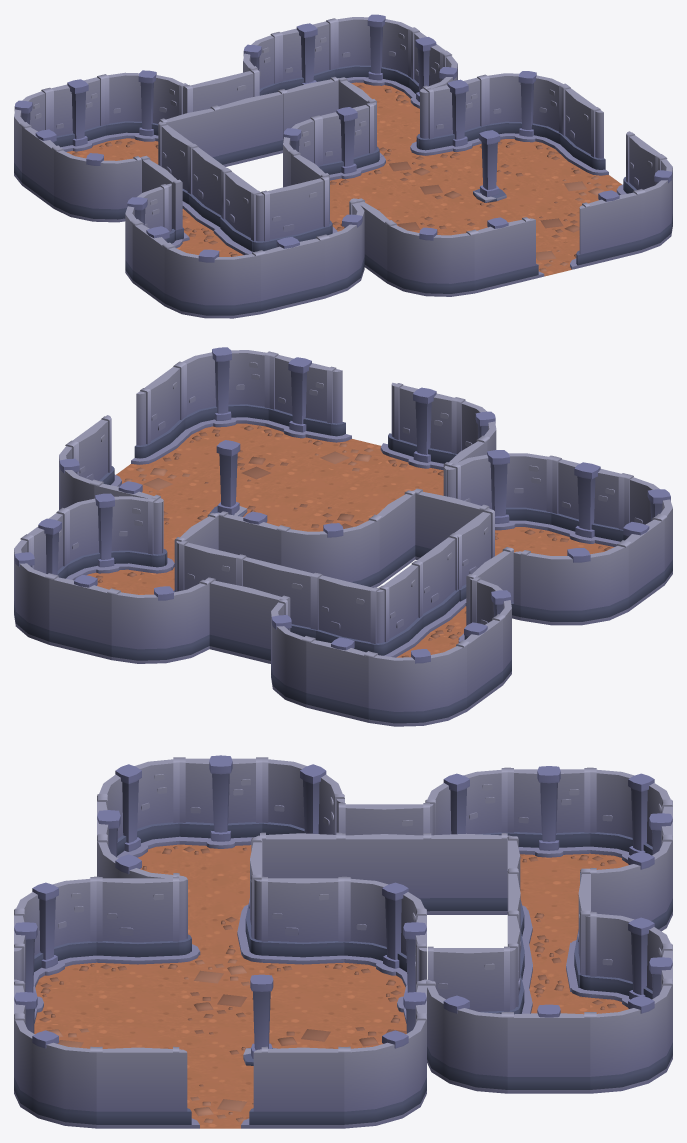
The model's file is large 4 way room 2 sides connected.glb.
3 views of the same model, one above another, from view 1: azimuth 30°, elevation 25°; view 2: azimuth 150°, elevation 25°; view 3: azimuth 270°, elevation 25° (orthographic). The views are drawn at different scales.
Parts seen in each view (by area): view 1: room-large, room-corner.001, room-corner.002, room-corner, corridor, corridor.001; view 2: room-large, room-corner.001, room-corner, room-corner.002, corridor, corridor.001; view 3: room-large, room-corner.002, room-corner, room-corner.001, corridor.001, corridor.
Part boxes in pixels (box(x1,y1,x2,y2)): room-large: box(283, 71, 672, 296); room-corner.001: box(125, 169, 364, 318); room-corner.002: box(14, 70, 218, 222); room-corner: box(243, 14, 457, 158); corridor: box(183, 68, 287, 166); corridor.001: box(140, 144, 228, 241); room-large: box(59, 347, 496, 587); room-corner.001: box(413, 450, 672, 625); room-corner: box(14, 493, 245, 663); room-corner.002: box(271, 561, 511, 726); corridor: box(205, 554, 318, 663); corridor.001: box(411, 534, 513, 640); room-large: box(14, 876, 426, 1128); room-corner.002: box(425, 766, 672, 949); room-corner: box(425, 911, 672, 1093); room-corner.001: box(97, 755, 344, 955); corridor.001: box(338, 803, 429, 914); corridor: box(508, 868, 590, 991).
Bounding box in the file's own units: 33.7 × 4.23 × 31.91.
Materials: 3 (3 with a texture image).
